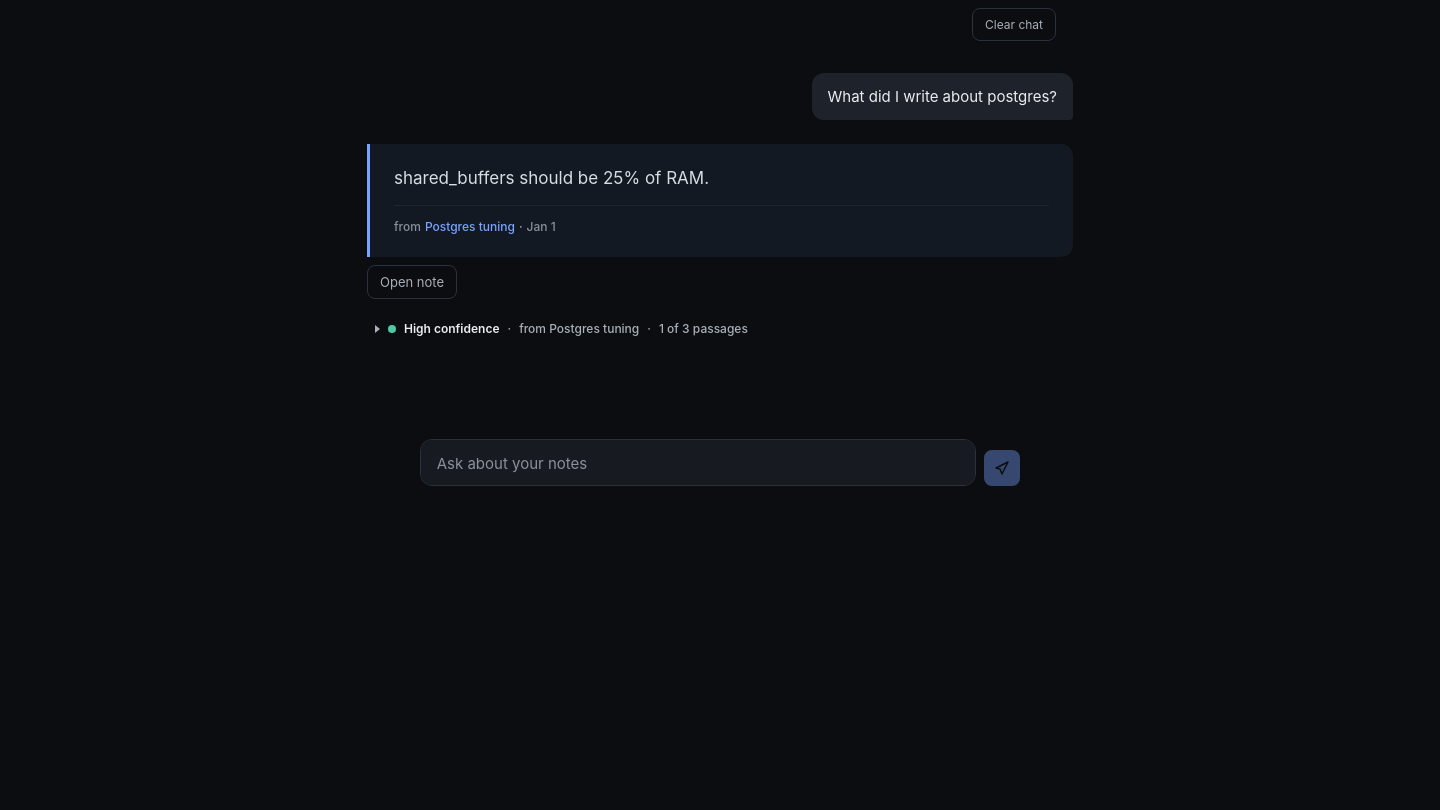
it: ChatPanel — Clear chat gate › opens the confirm alertdialog with the "Clear chat transcript?" title when the Clear chat button is clicked
Click the button "Clear chat": (1014, 24) [972, 8, 1056, 41]
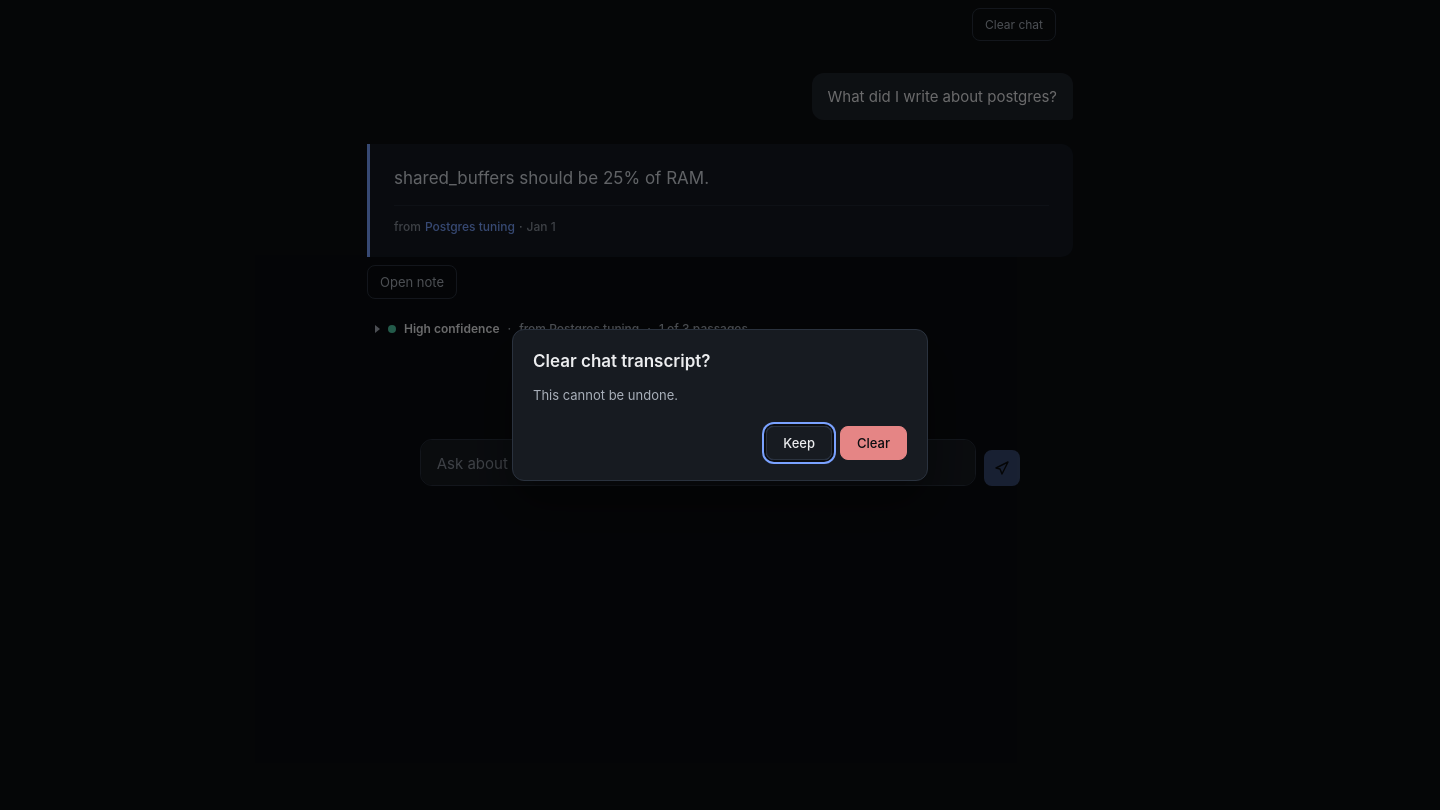
Result: the dialog is shown at [512, 330, 928, 481]
Result: the dialog shows "Clear chat transcript?" at [533, 352, 710, 372]
